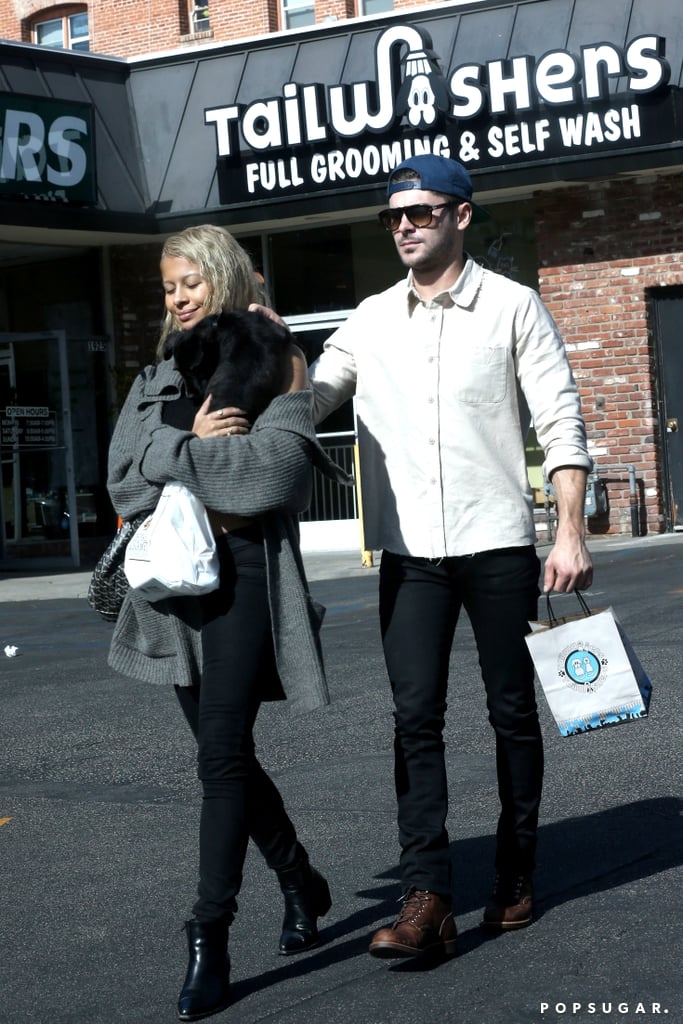Person: (315, 153, 653, 963), (89, 222, 334, 1024)
